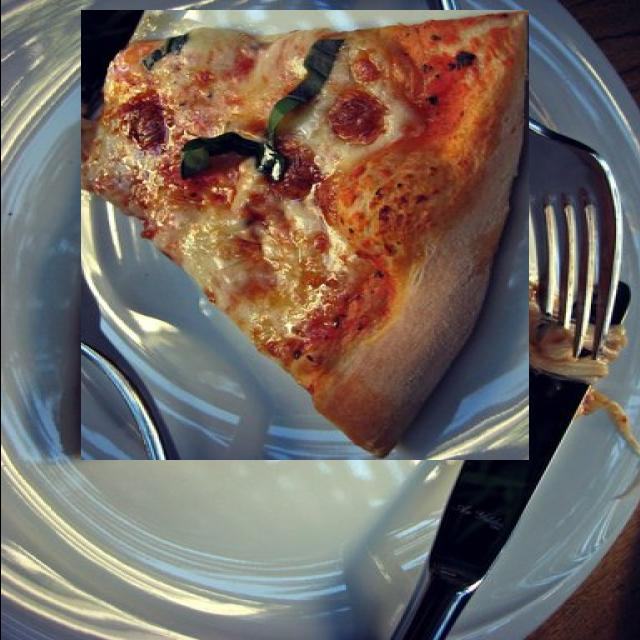basil: (261, 291, 428, 433)
pizza: (80, 10, 528, 460)
